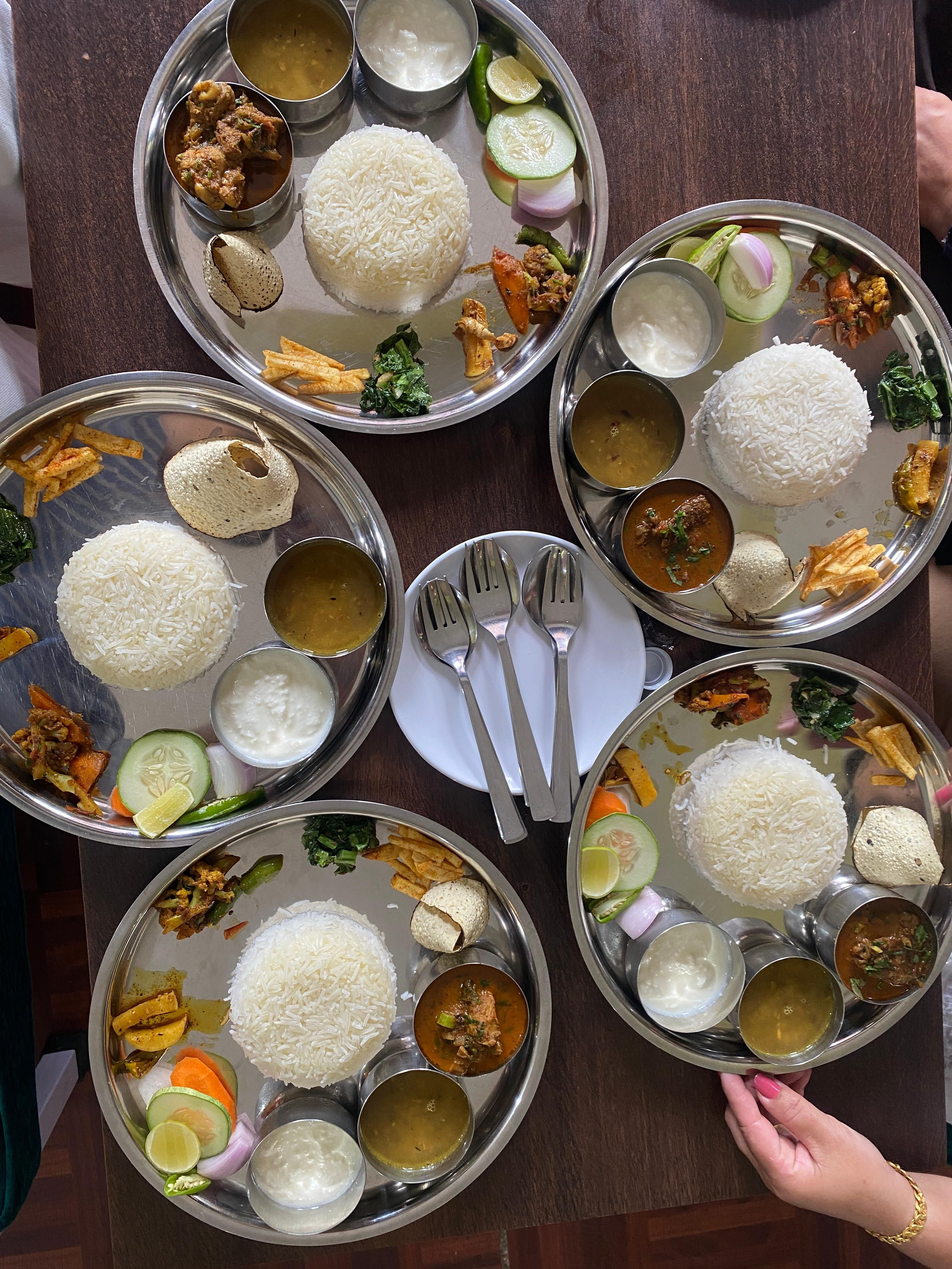bhat: (701, 334, 879, 502), (301, 137, 471, 291), (237, 928, 381, 1094), (64, 549, 225, 691)
dal: (258, 554, 374, 642), (566, 379, 680, 464), (377, 1072, 469, 1165), (755, 975, 826, 1054)
sabji: (789, 679, 924, 760), (9, 708, 111, 805), (871, 365, 940, 431), (900, 450, 947, 502)
